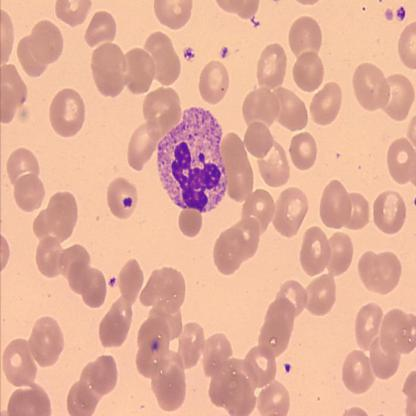Segmented neutrophil: (154, 103, 230, 214)
